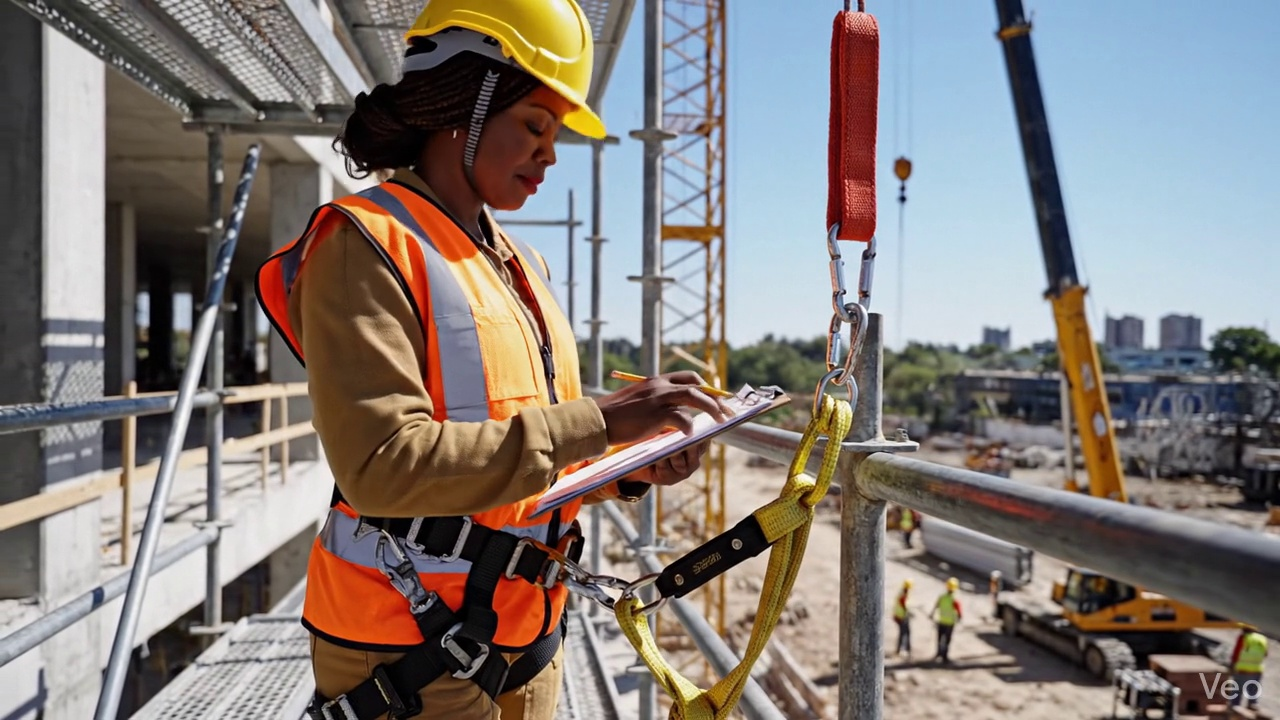p: (257, 0, 721, 719), (583, 445, 705, 502), (569, 543, 573, 545)
